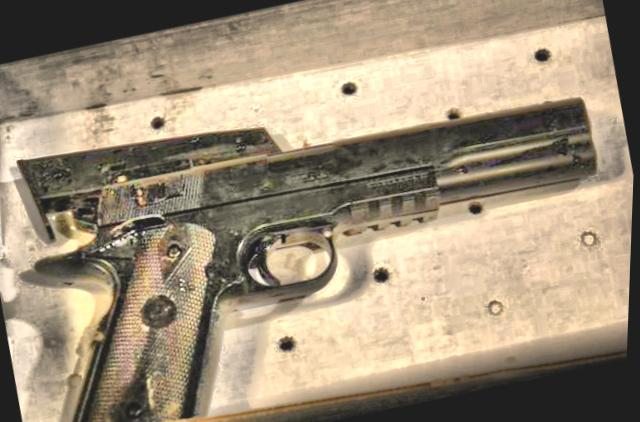pistol: (14, 90, 630, 422)
